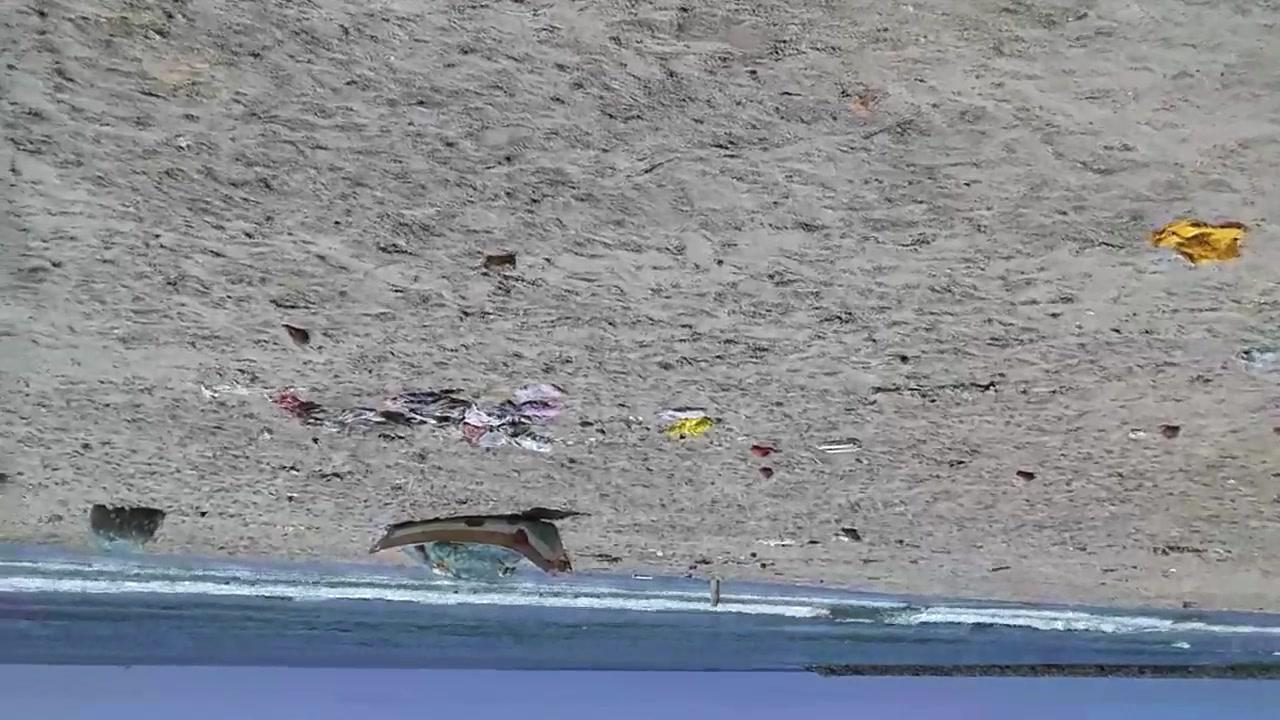large collection of objects: (367, 512, 574, 586), (86, 504, 170, 545), (1008, 462, 1052, 487), (1154, 420, 1186, 450), (839, 520, 865, 551)
obj: (267, 373, 564, 455), (1148, 214, 1258, 266), (805, 434, 873, 462), (666, 417, 721, 442), (204, 374, 266, 394), (668, 399, 712, 426), (749, 437, 783, 466), (278, 323, 316, 348), (485, 253, 516, 272), (752, 460, 778, 480), (709, 581, 720, 605)
sand/background: (1, 539, 1279, 719)
